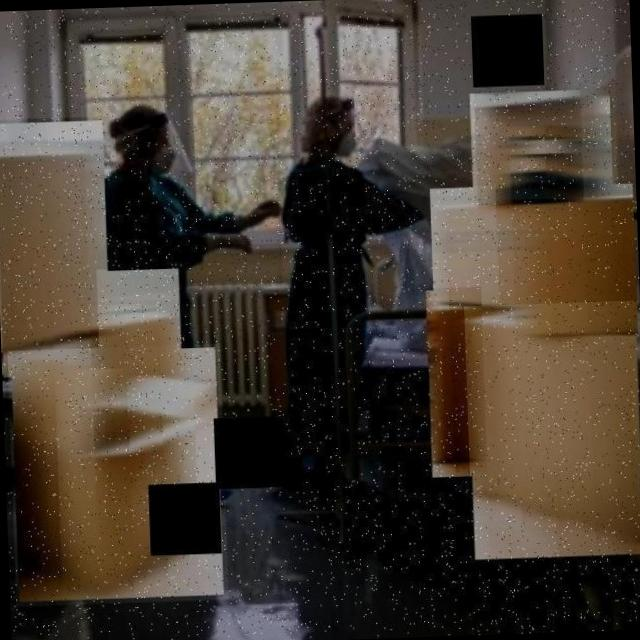box: (7, 343, 229, 606), (463, 300, 640, 566), (0, 116, 114, 383), (495, 180, 640, 344), (468, 85, 616, 231), (96, 266, 186, 425), (429, 184, 516, 327), (425, 286, 488, 480)
